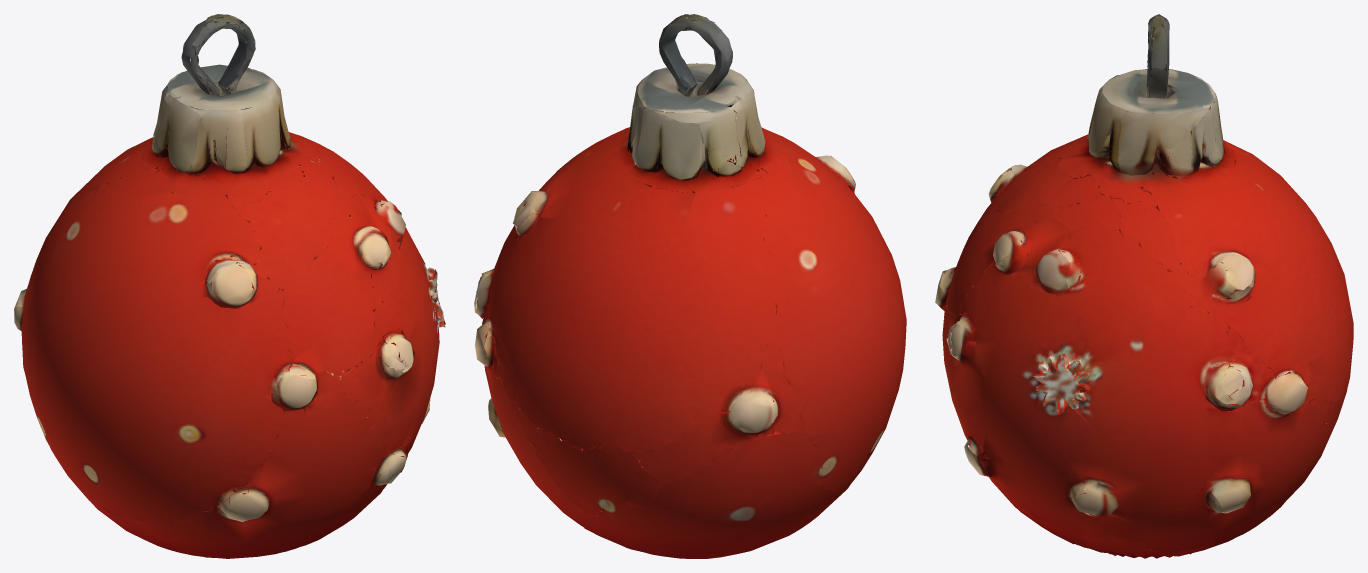
The model's file is Ornament_A.fbx.
3 renders of one model, left to right at view 1: azimuth 30°, elevation 25°; view 2: azimuth 150°, elevation 25°; view 3: azimuth 270°, elevation 25°, orthographic. The views are drawn at different scales.
Parts seen in each view (by area): view 1: Ornament_A; view 2: Ornament_A; view 3: Ornament_A.
Boxes of the visible parts, x1,y1,x2,y2 form: Ornament_A: (14, 14, 445, 558); Ornament_A: (474, 14, 906, 558); Ornament_A: (935, 14, 1353, 558).
Size of the model in its own units: 12.06 by 16 by 12.26.
Materials: 1 (1 with a texture image).
